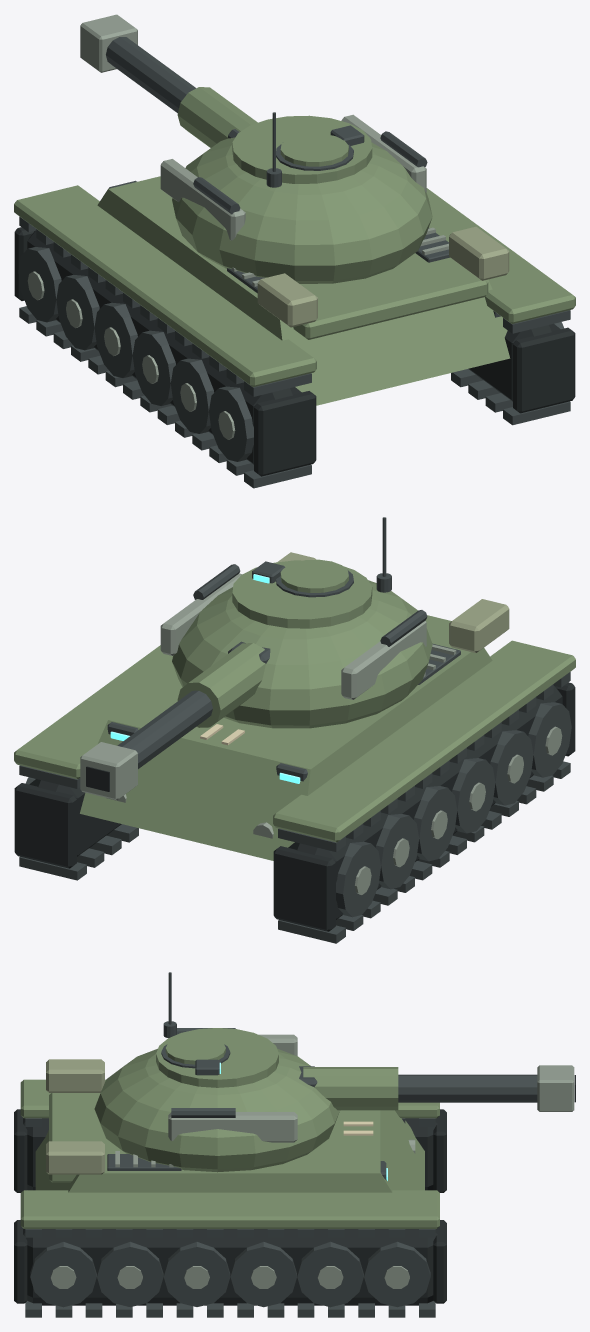
File: tank_boxer_mk2.glb
3 views of the same model, one above another, from view 1: azimuth 30°, elevation 25°; view 2: azimuth 150°, elevation 25°; view 3: azimuth 270°, elevation 25° (orthographic). The views are drawn at different scales.
Parts seen in each view (by area): view 1: tank_boxer_mk2_TankPaint.005, tank_boxer_mk2_TankPaint.006, tank_boxer_mk2_RunningGear.005, tank_boxer_mk2_TankTracks.005, tank_boxer_mk2_RunningGear.006, tank_boxer_mk2_ArmorEdges.006, tank_boxer_mk2_Canvas.004, tank_boxer_mk2_ArmorEdges.005; view 2: tank_boxer_mk2_TankPaint.005, tank_boxer_mk2_TankPaint.006, tank_boxer_mk2_RunningGear.005, tank_boxer_mk2_TankTracks.005, tank_boxer_mk2_ArmorEdges.006, tank_boxer_mk2_RunningGear.006, tank_boxer_mk2_ArmorEdges.005, tank_boxer_mk2_Canvas.004; view 3: tank_boxer_mk2_TankPaint.005, tank_boxer_mk2_TankPaint.006, tank_boxer_mk2_RunningGear.005, tank_boxer_mk2_TankTracks.005, tank_boxer_mk2_RunningGear.006, tank_boxer_mk2_ArmorEdges.006, tank_boxer_mk2_Canvas.004, tank_boxer_mk2_ArmorEdges.005.
Part boxes in pixels (left/top/right/bottom): tank_boxer_mk2_TankPaint.005: left=14, top=176, right=575, bottom=405; tank_boxer_mk2_TankPaint.006: left=172, top=87, right=432, bottom=283; tank_boxer_mk2_RunningGear.005: left=18, top=180, right=570, bottom=488; tank_boxer_mk2_TankTracks.005: left=14, top=227, right=575, bottom=476; tank_boxer_mk2_RunningGear.006: left=106, top=37, right=427, bottom=214; tank_boxer_mk2_ArmorEdges.006: left=80, top=14, right=426, bottom=240; tank_boxer_mk2_Canvas.004: left=257, top=226, right=509, bottom=327; tank_boxer_mk2_ArmorEdges.005: left=27, top=227, right=448, bottom=439; tank_boxer_mk2_TankPaint.005: left=14, top=615, right=575, bottom=860; tank_boxer_mk2_TankPaint.006: left=172, top=559, right=432, bottom=728; tank_boxer_mk2_RunningGear.005: left=19, top=643, right=571, bottom=943; tank_boxer_mk2_TankTracks.005: left=14, top=682, right=575, bottom=931; tank_boxer_mk2_ArmorEdges.006: left=80, top=573, right=426, bottom=800; tank_boxer_mk2_RunningGear.006: left=117, top=517, right=427, bottom=768; tank_boxer_mk2_ArmorEdges.005: left=106, top=644, right=562, bottom=894; tank_boxer_mk2_Canvas.004: left=277, top=552, right=509, bottom=652; tank_boxer_mk2_TankPaint.005: left=20, top=1079, right=439, bottom=1228; tank_boxer_mk2_TankPaint.006: left=94, top=1028, right=398, bottom=1172; tank_boxer_mk2_RunningGear.005: left=25, top=1118, right=435, bottom=1317; tank_boxer_mk2_TankTracks.005: left=14, top=1109, right=446, bottom=1305; tank_boxer_mk2_RunningGear.006: left=161, top=972, right=537, bottom=1117; tank_boxer_mk2_ArmorEdges.006: left=168, top=1034, right=574, bottom=1142; tank_boxer_mk2_Canvas.004: left=46, top=1059, right=104, bottom=1174; tank_boxer_mk2_ArmorEdges.005: left=50, top=1139, right=415, bottom=1288.
Size of the model in its own units: 2.6 by 2.18 by 4.39.
